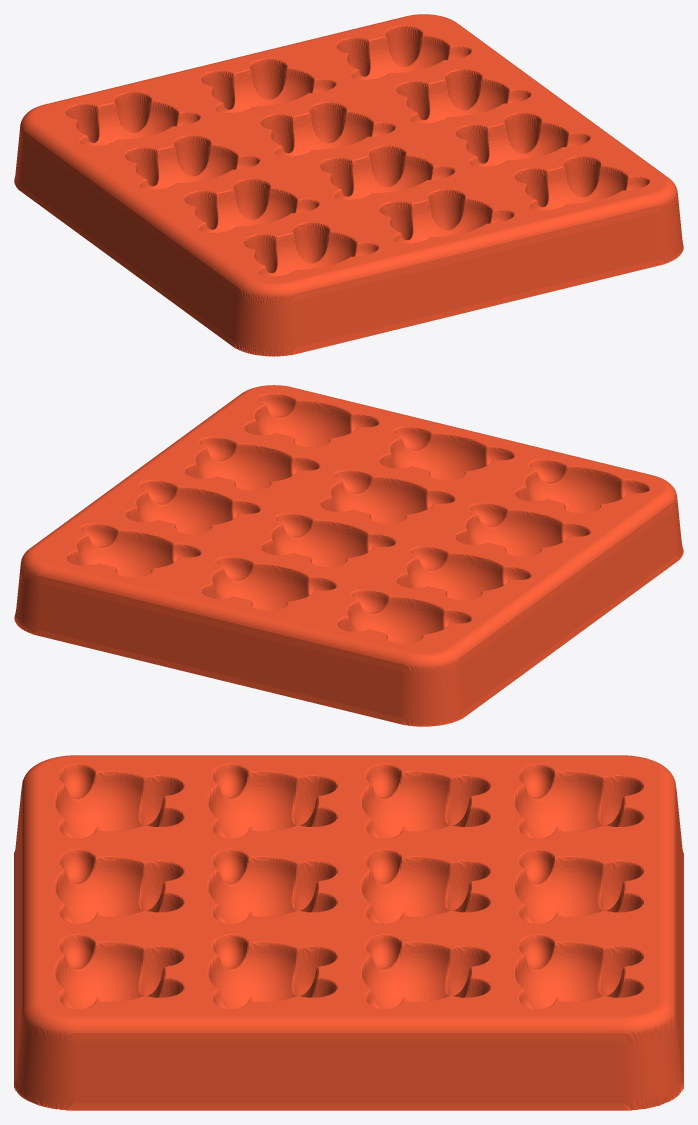
File: mold.glb
3 renders of one model, top to bottom at view 1: azimuth 30°, elevation 25°; view 2: azimuth 150°, elevation 25°; view 3: azimuth 270°, elevation 25°, orthographic. The views are drawn at different scales.
Visible parts, largest first — view 1: geometry_0; view 2: geometry_0; view 3: geometry_0.
Part boxes in pixels (x1,y1,x2,y2): geometry_0: [14, 14, 683, 356]; geometry_0: [14, 385, 683, 726]; geometry_0: [14, 755, 683, 1110].
Size of the model in its own units: 0.097 by 0.0136 by 0.098.
